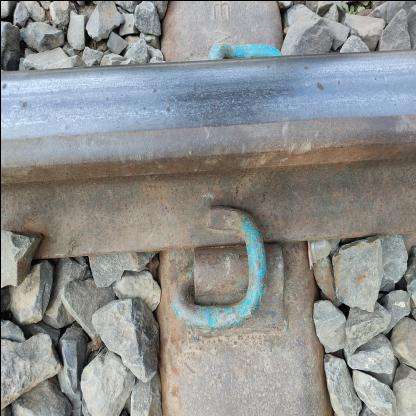Non Defective: (143, 154, 322, 360)
